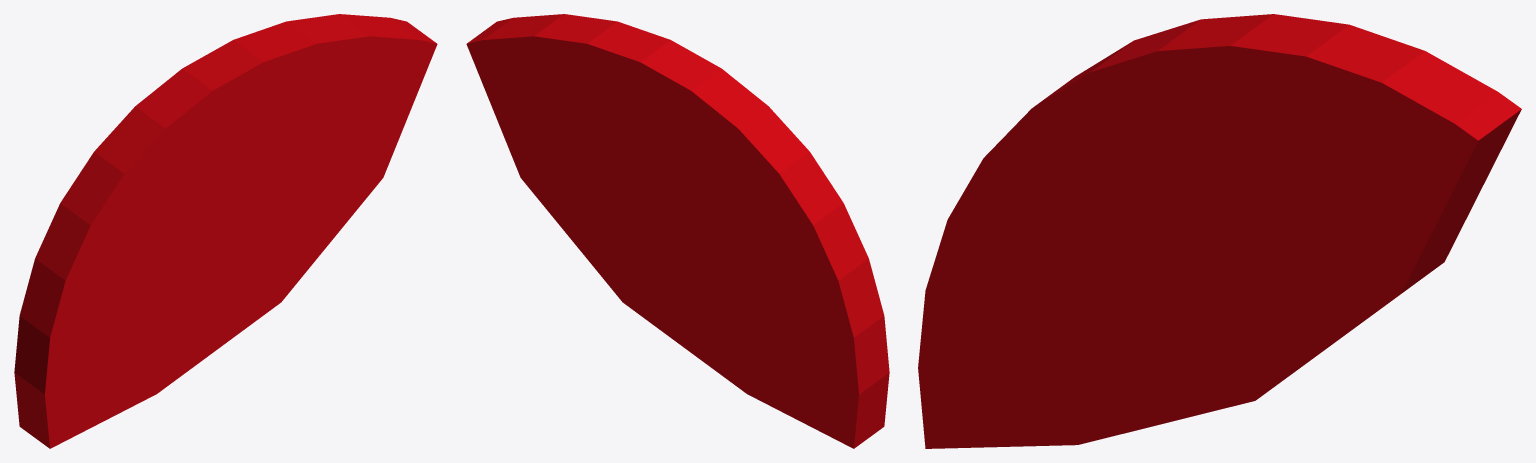
The model's file is tongue.fbx.
3 views of the same model, side by side, from view 1: azimuth 30°, elevation 25°; view 2: azimuth 150°, elevation 25°; view 3: azimuth 330°, elevation 25° (orthographic). The views are drawn at different scales.
Visible parts, largest first — view 1: Circle.002; view 2: Circle.002; view 3: Circle.002.
Part boxes in pixels (x1,y1,x2,y2): Circle.002: (14,14,437,448); Circle.002: (466,14,889,448); Circle.002: (918,14,1521,448).
Bounding box in the file's own units: 1082 × 895 × 146.
